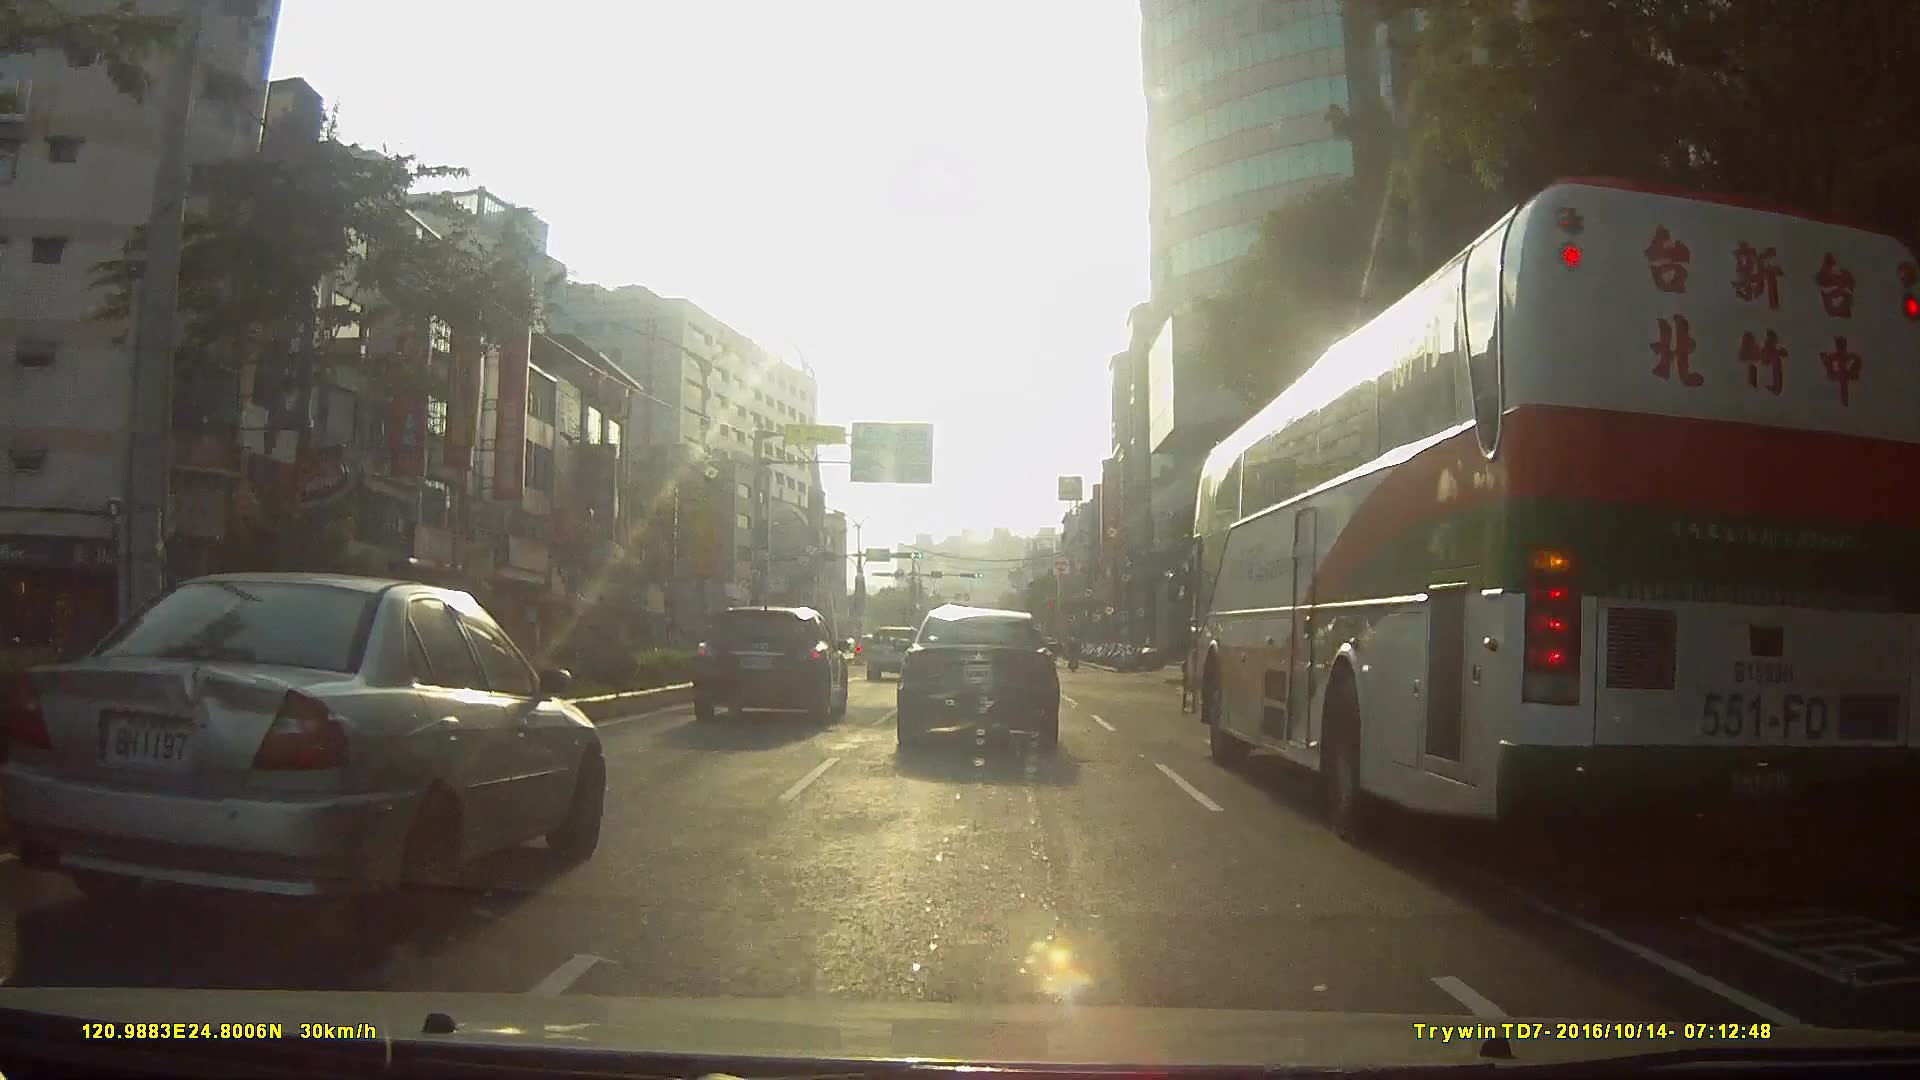vehicle: (1192, 123, 1920, 866), (0, 566, 603, 943), (893, 601, 1060, 752), (692, 601, 851, 719), (862, 622, 923, 680)
